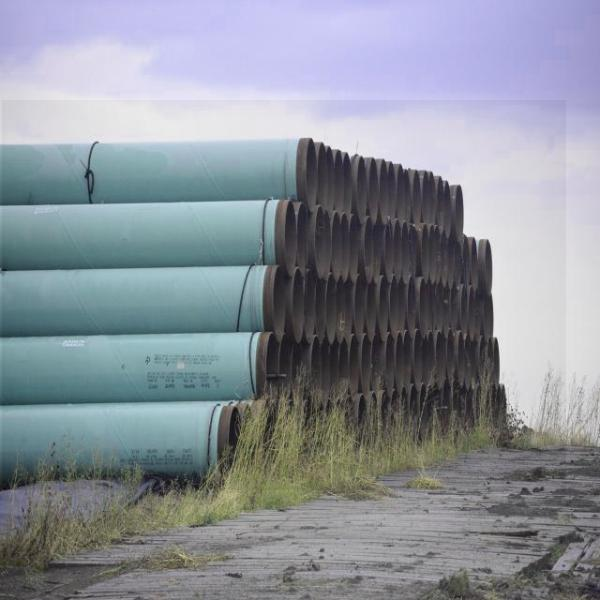no leak: (2, 100, 566, 490)
